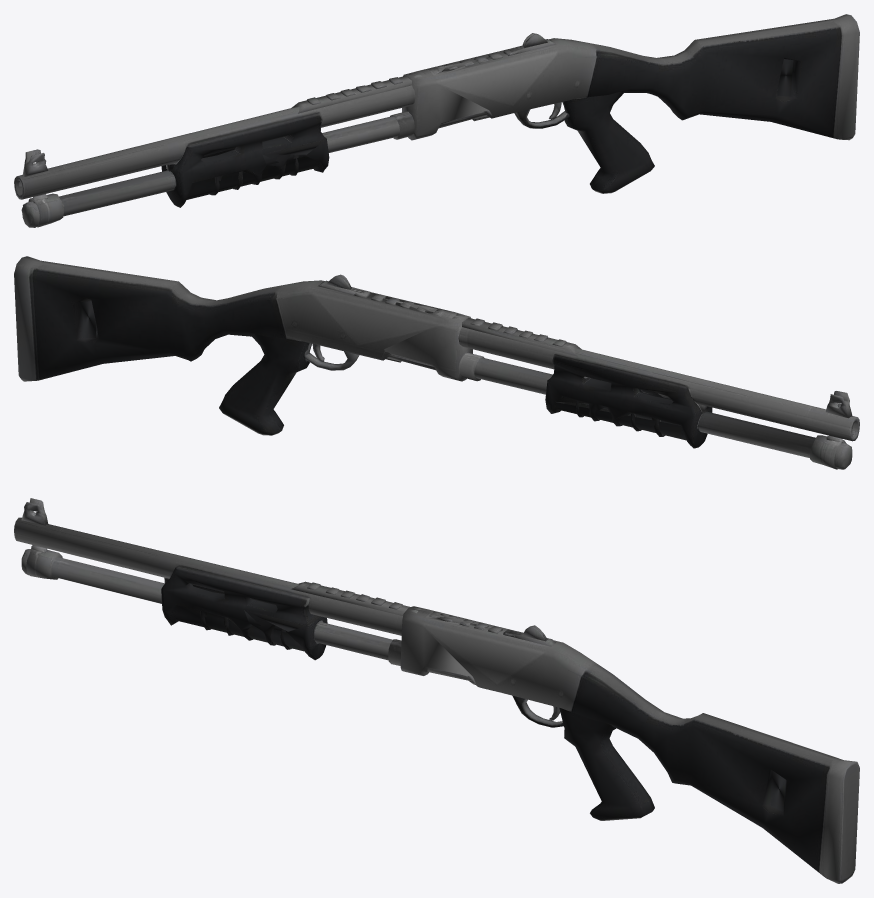
Rendered from shotgun.glb.
The picture shows the model from 3 angles, top to bottom: view 1: azimuth 30°, elevation 25°; view 2: azimuth 150°, elevation 25°; view 3: azimuth 330°, elevation 25°; orthographic projection.
Bounding box in the file's own units: 1 × 0.2089 × 0.0423.
Materials: 1 (1 with a texture image).
